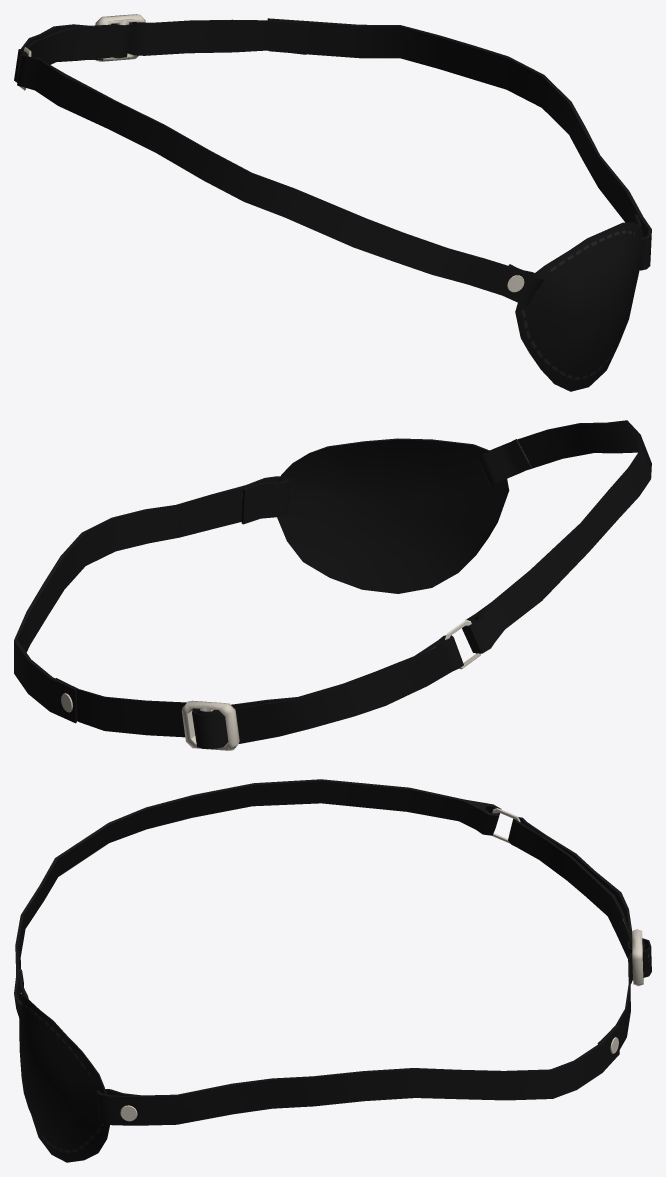
Rendered from Eye_Patch.glb.
3 views of the same model, one above another, from view 1: azimuth 30°, elevation 25°; view 2: azimuth 150°, elevation 25°; view 3: azimuth 270°, elevation 25° (orthographic). The views are drawn at different scales.
Parts seen in each view (by area): view 1: Eye Patch; view 2: Eye Patch; view 3: Eye Patch.
Part boxes in pixels (x1,y1,x2,y2): Eye Patch: [14, 14, 651, 391]; Eye Patch: [14, 420, 651, 750]; Eye Patch: [14, 779, 651, 1162].
Bounding box in the file's own units: 0.795 × 0.4229 × 1.05.
1 material, 1 textured.
